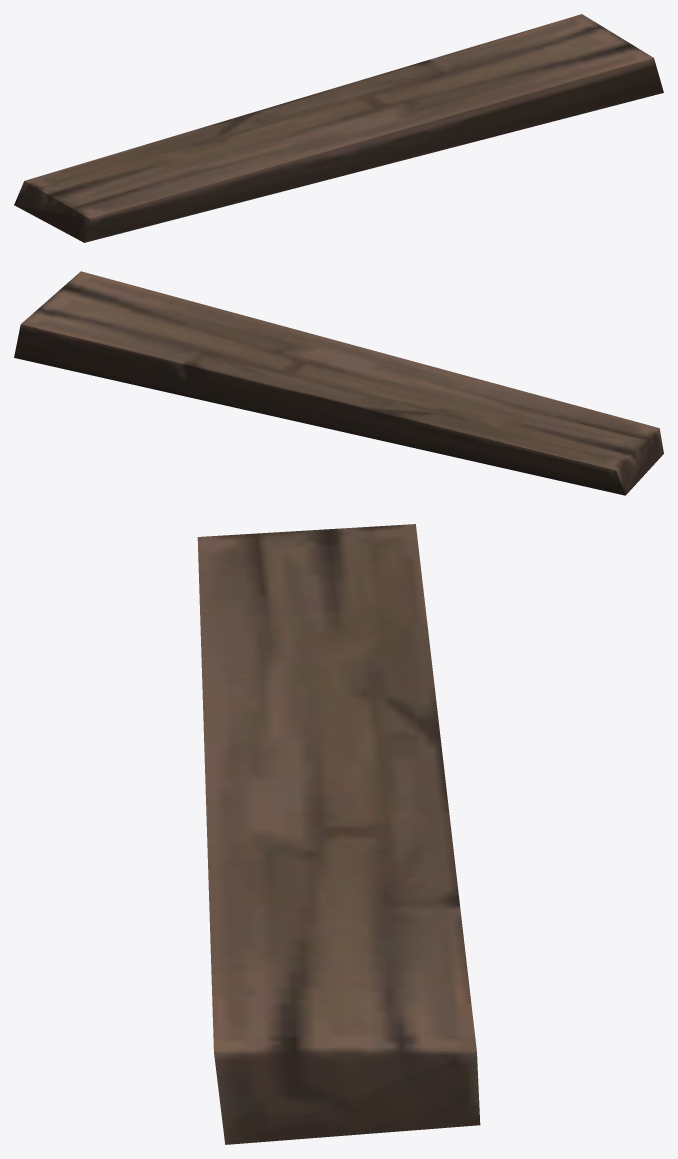
File: bandit_board_large_01.fbx
3 views of the same model, one above another, from view 1: azimuth 30°, elevation 25°; view 2: azimuth 150°, elevation 25°; view 3: azimuth 270°, elevation 25° (orthographic). The views are drawn at different scales.
Parts seen in each view (by area): view 1: obj0.676; view 2: obj0.676; view 3: obj0.676.
Part boxes in pixels (x1,y1,x2,y2): obj0.676: (14, 14, 663, 242); obj0.676: (14, 271, 663, 495); obj0.676: (197, 524, 480, 1144).
Size of the model in its own units: 3.47 by 0.2364 by 0.7057.
